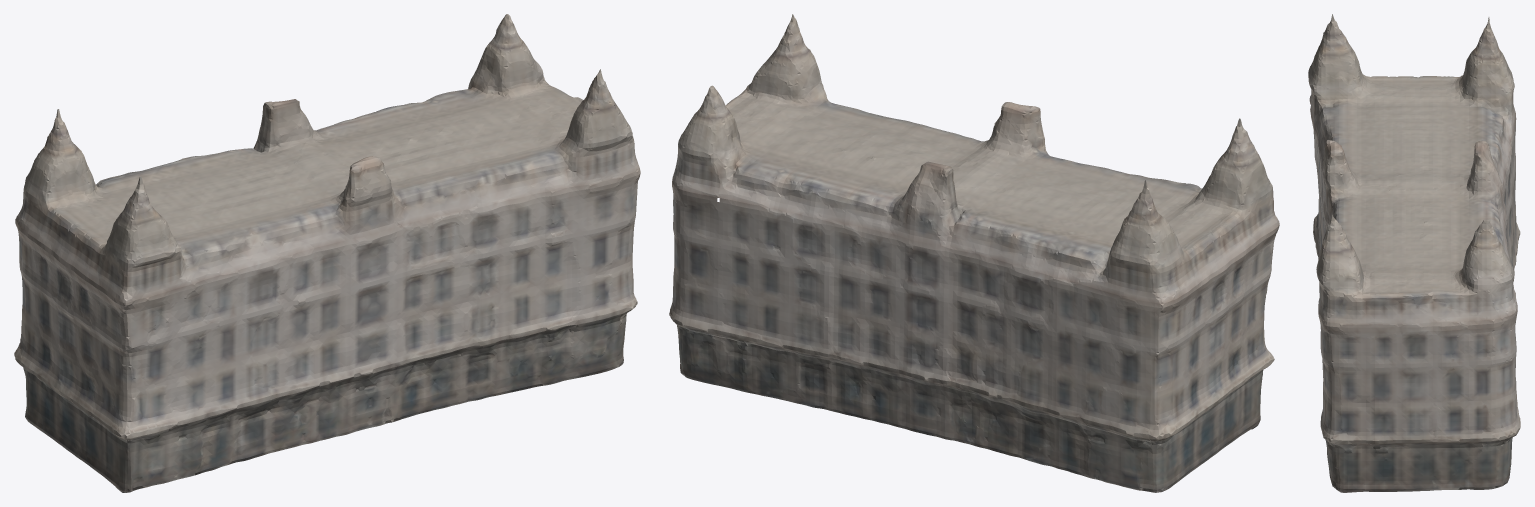
Rendered from edificio-senorial.glb.
3 renders of one model, left to right at view 1: azimuth 30°, elevation 25°; view 2: azimuth 150°, elevation 25°; view 3: azimuth 270°, elevation 25°, orthographic. The views are drawn at different scales.
Parts seen in each view (by area): view 1: world; view 2: world; view 3: world.
Part boxes in pixels (x1,y1,x2,y2): world: [14, 14, 640, 492]; world: [669, 14, 1279, 492]; world: [1308, 14, 1520, 492].
Bounding box in the file's own units: 1.97 × 1.1 × 0.7783.
